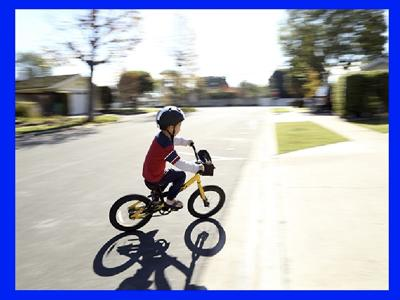With Helmet: (153, 99, 186, 140)
